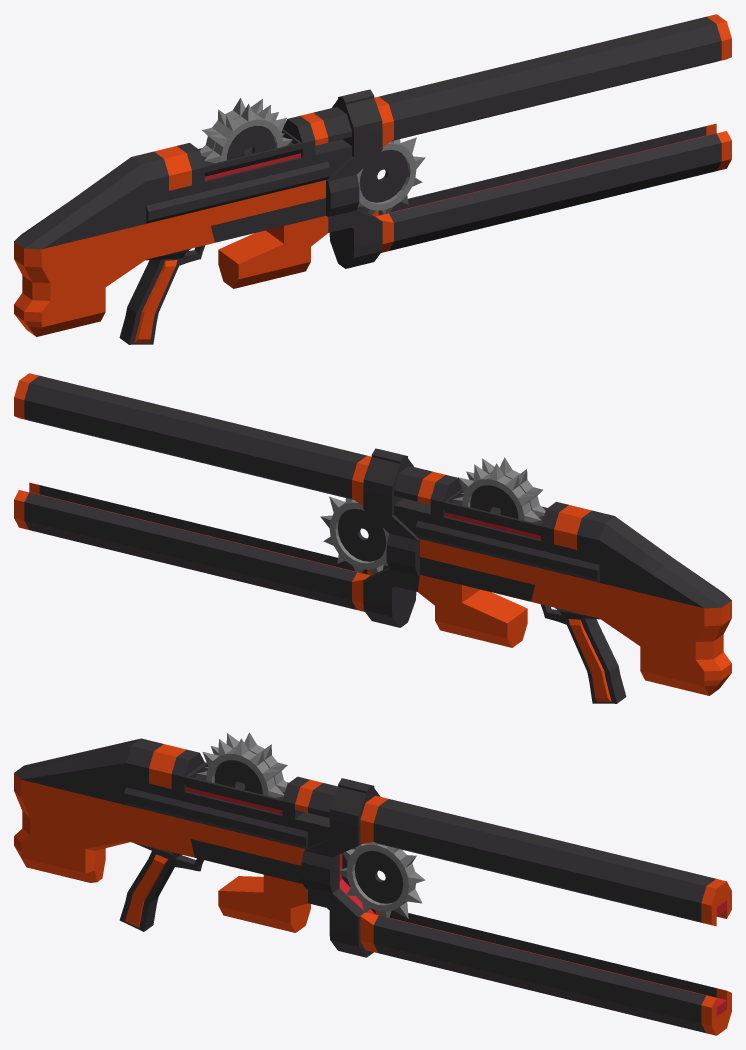
Rendered from Lanzasierra 01.fbx.
3 renders of one model, top to bottom at view 1: azimuth 30°, elevation 25°; view 2: azimuth 150°, elevation 25°; view 3: azimuth 330°, elevation 25°, orthographic.
Parts seen in each view (by area): view 1: Cube.095; view 2: Cube.095; view 3: Cube.095.
Part boxes in pixels (x1,y1,x2,y2): Cube.095: (14,14,731,344); Cube.095: (14,373,731,703); Cube.095: (14,732,731,1035).
Size of the model in its own units: 1 by 0.2947 by 0.0719.
